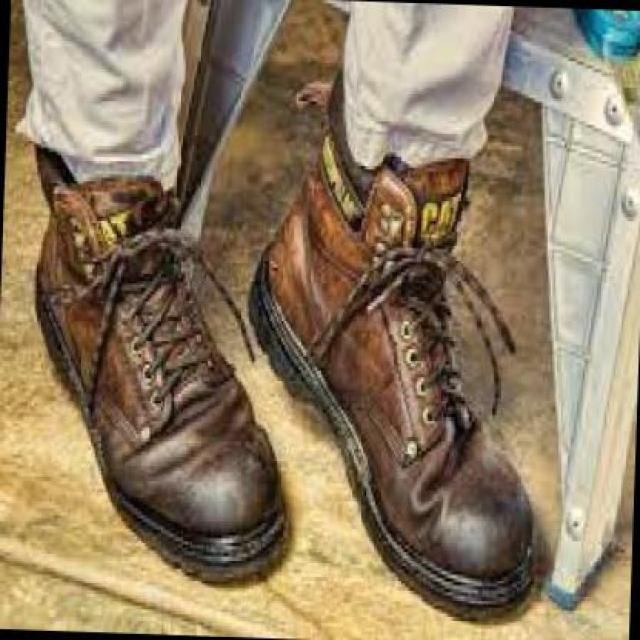Safety Boots: (250, 85, 532, 618), (38, 179, 288, 581)
